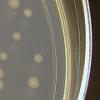yellow: (27, 75, 41, 91), (8, 0, 22, 10), (0, 49, 9, 63), (33, 53, 44, 64), (12, 32, 23, 42), (24, 7, 33, 18), (0, 79, 5, 91), (0, 69, 5, 80)
